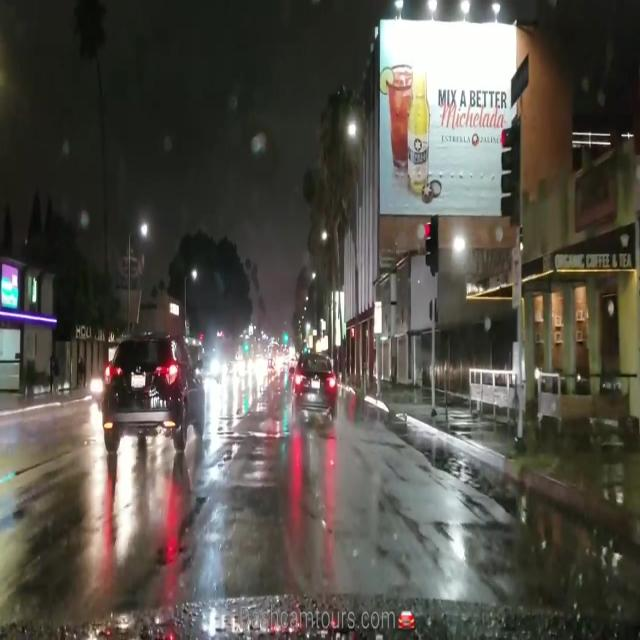Car: (101, 336, 207, 446), (286, 357, 337, 418)
